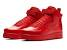shoe: (3, 5, 65, 45)
